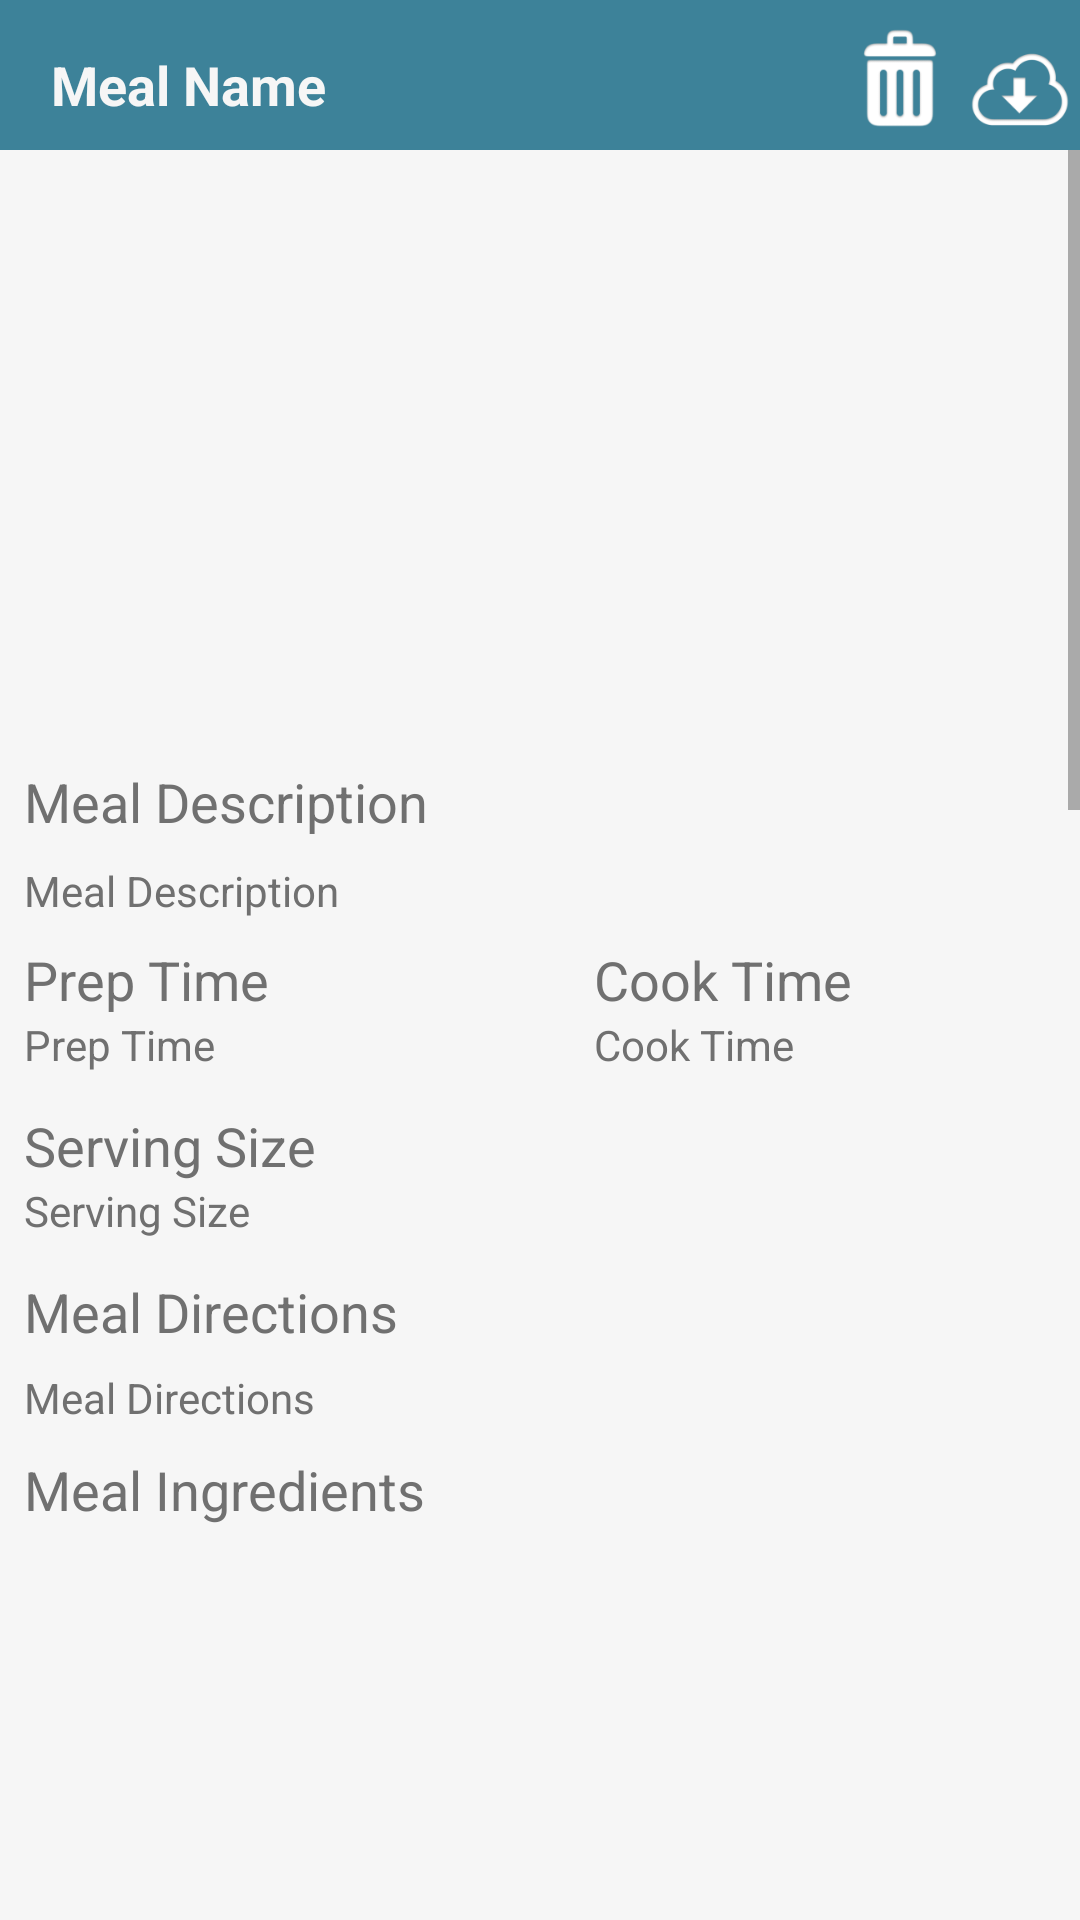

Icons on this 1080px x 1920px Android screen, each with the point to tap as (x,y):
del: (900,78)
download: (1020,90)
